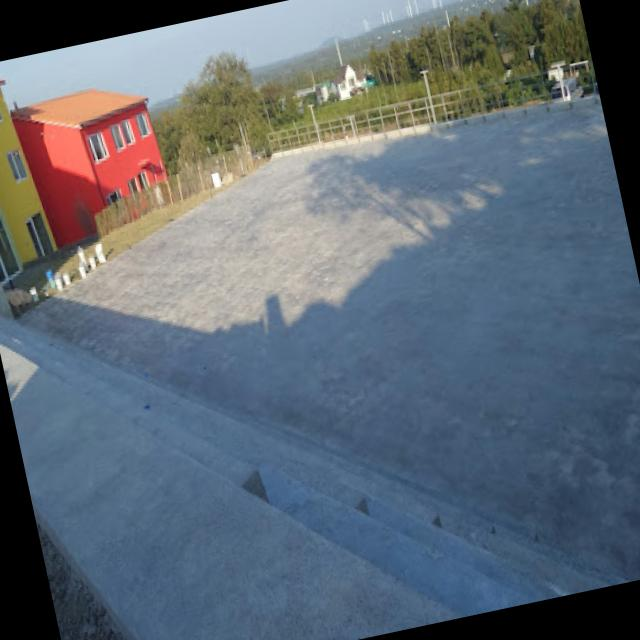asphalt: (35, 520, 126, 640)
cement: (0, 103, 640, 640)
